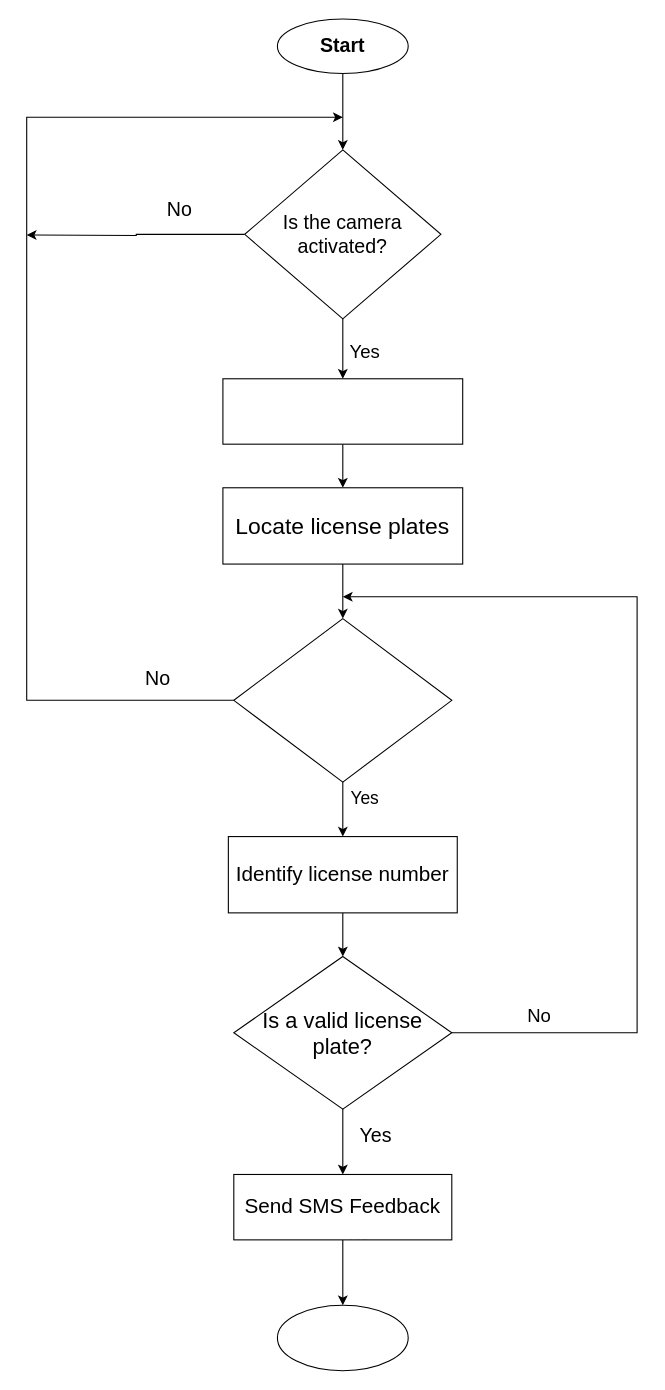
This 665x1390 diagram has some shape labels left out. Each missing label, with the box of its shape:
End: (276, 1304, 408, 1371)
Input image: (222, 378, 463, 444)
Is there any license plate?: (233, 617, 452, 782)
